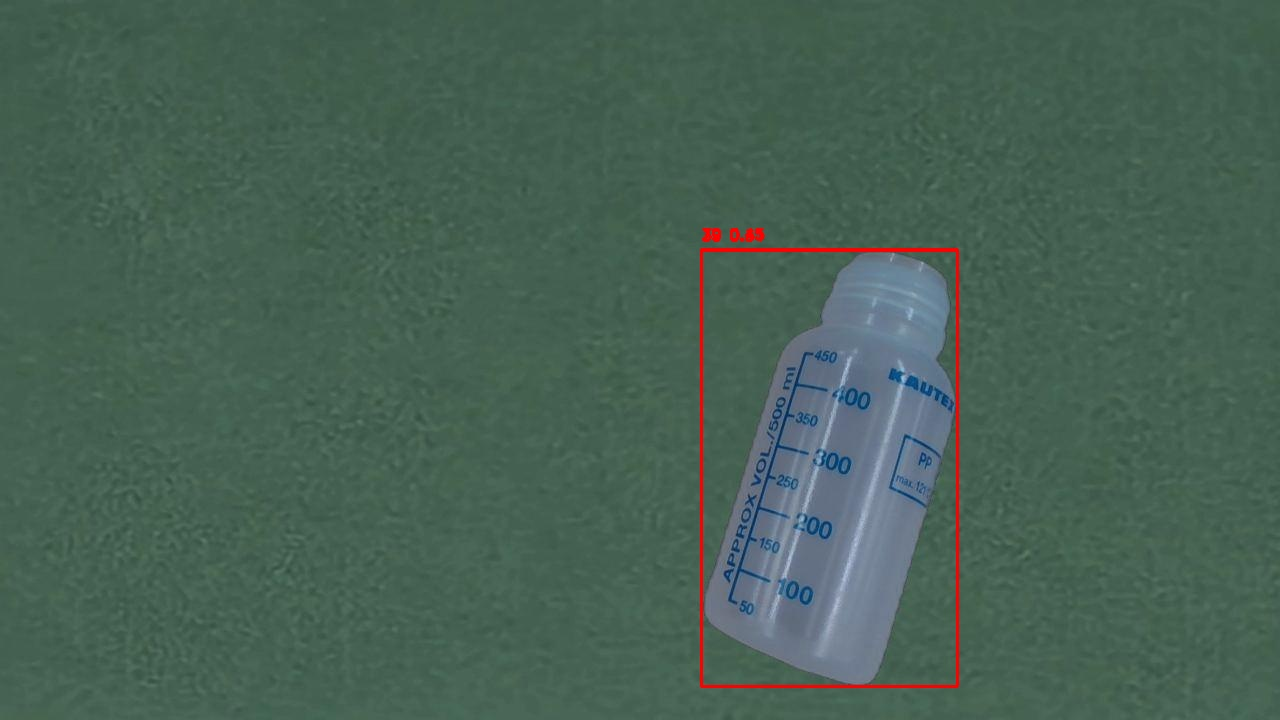cup: (701, 249, 957, 686), (701, 250, 957, 686)
